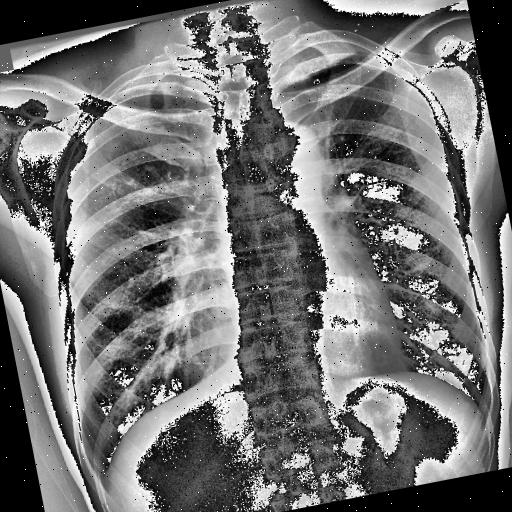0- Aortic enlargement: (244, 114, 328, 200)
11- Pleural thickening: (262, 30, 378, 90), (268, 31, 384, 90), (84, 66, 211, 118), (269, 26, 367, 88), (90, 63, 212, 111)
8- Nodule-Mass: (313, 76, 322, 84)
9- Other lesion: (312, 78, 322, 88), (313, 76, 322, 84), (314, 78, 320, 84)
